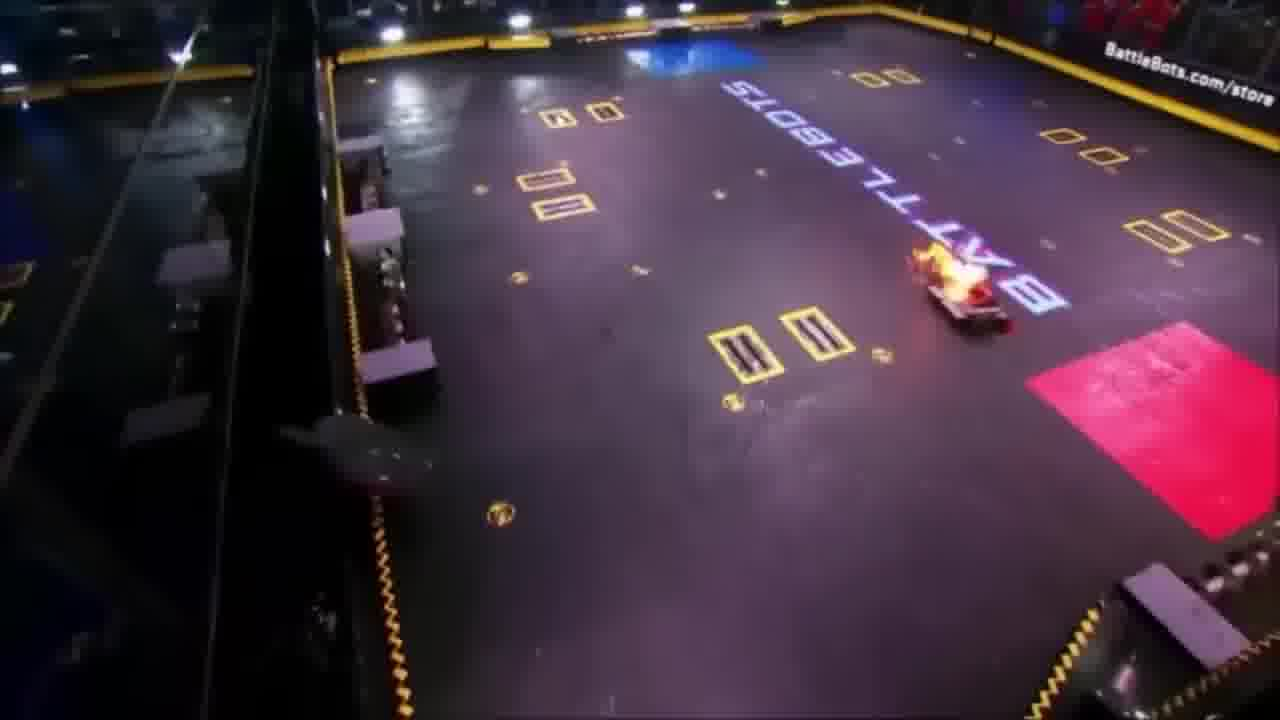combatbot: (286, 418, 429, 498), (906, 242, 1014, 339)
